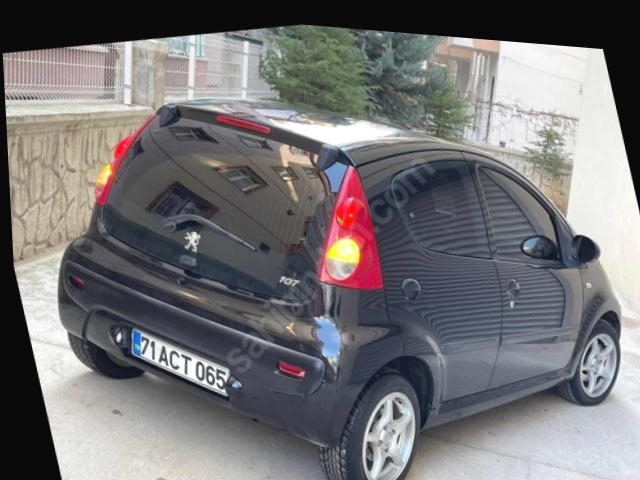plaka: (130, 328, 229, 395)
